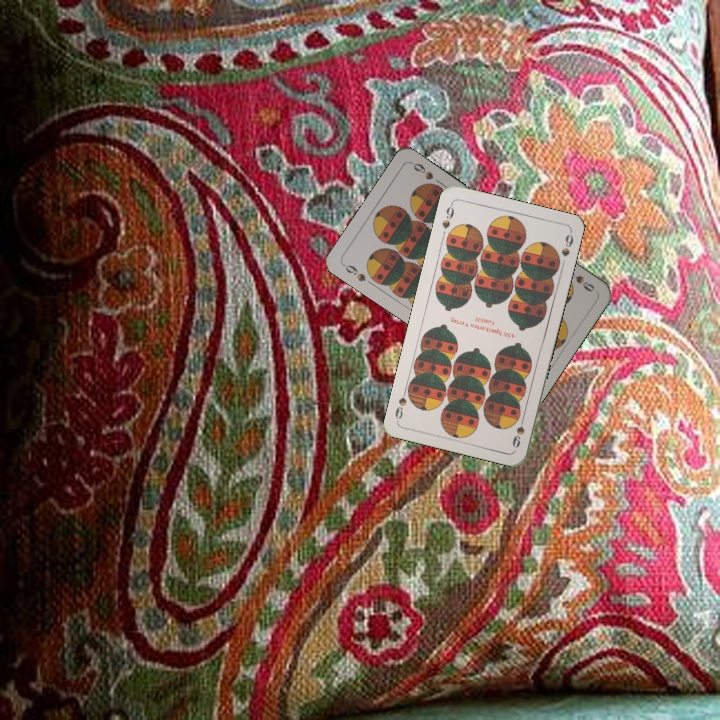S9: (508, 411, 528, 450), (339, 260, 368, 284), (438, 199, 457, 231), (572, 271, 597, 295)
